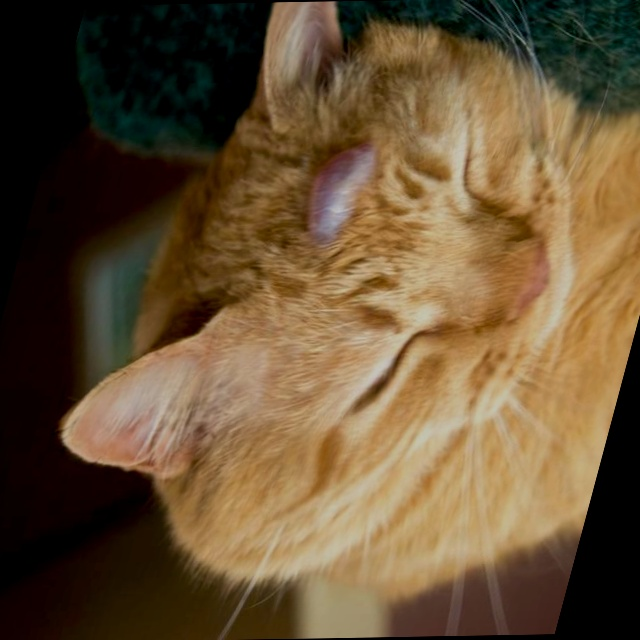lump_and_bump: (299, 137, 378, 243)
